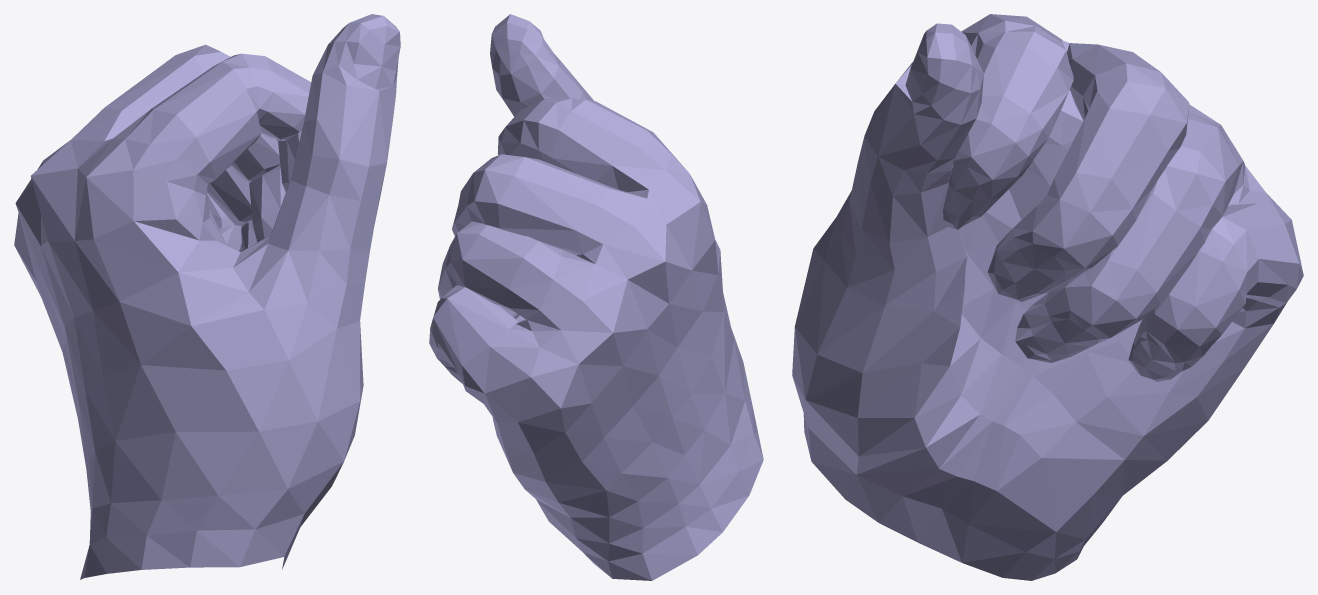
File: frame_0024_source_000024_hand.glb
The picture shows the model from 3 angles, left to right: view 1: azimuth 30°, elevation 25°; view 2: azimuth 150°, elevation 25°; view 3: azimuth 270°, elevation 25°; orthographic projection. The views are drawn at different scales.
Visible parts, largest first — view 1: world; view 2: world; view 3: world.
Boxes of the visible parts, x1,y1,x2,y2 form: world: (14, 14, 400, 579); world: (429, 14, 763, 580); world: (792, 14, 1303, 580).
Size of the model in its own units: 0.0674 by 0.1231 by 0.0913.
